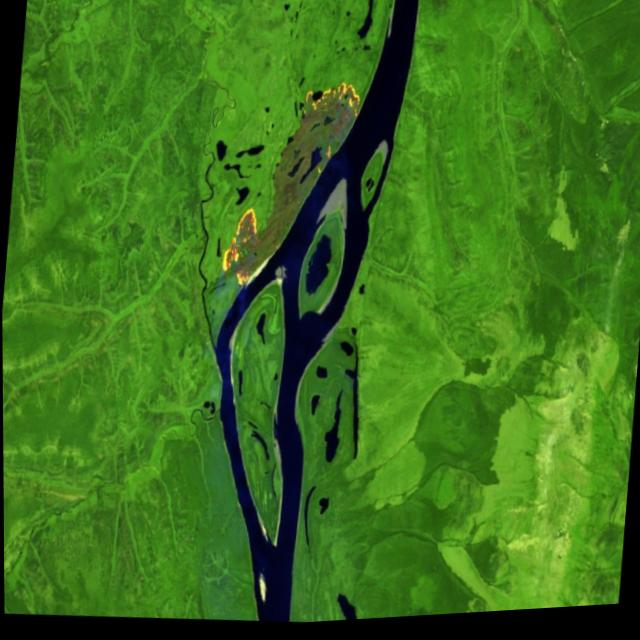fire: (212, 61, 375, 306)
